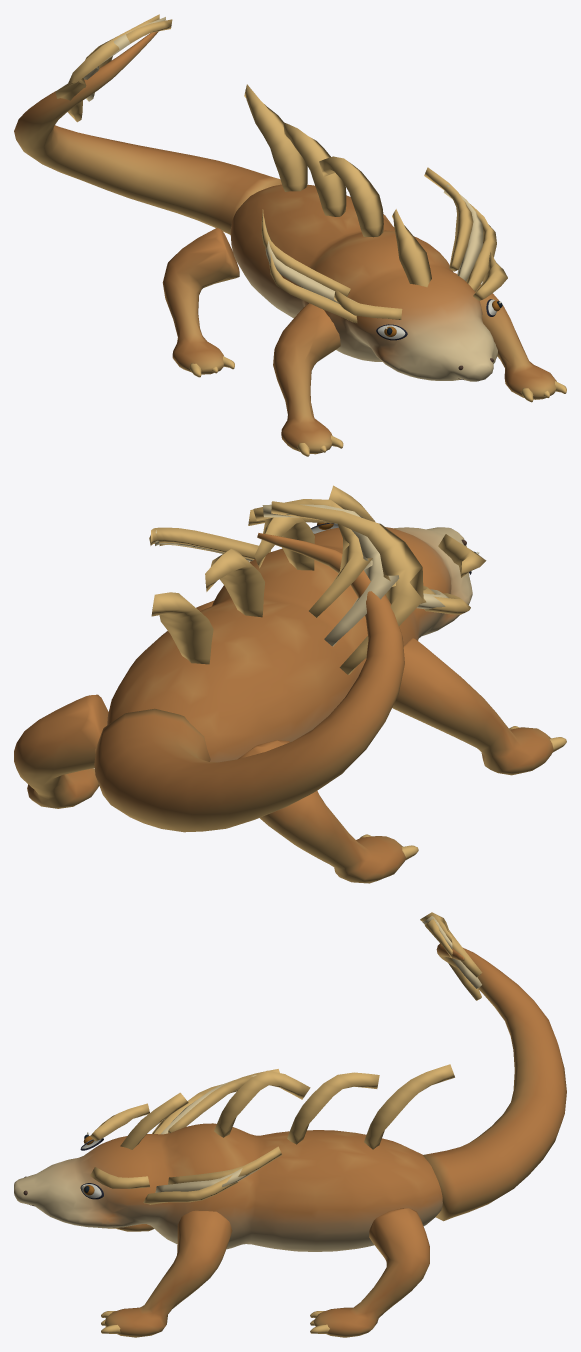
The model's file is salamandre.glb.
3 views of the same model, one above another, from view 1: azimuth 30°, elevation 25°; view 2: azimuth 150°, elevation 25°; view 3: azimuth 270°, elevation 25° (orthographic). The views are drawn at different scales.
Visible parts, largest first — view 1: Peint_salamandre, Peint_Art_queue_D_4, Peint_Art_patte_D_1, Peint_Art_patte_G_0, Peint_Art_patte_D_2; view 2: Peint_salamandre, Peint_Art_queue_D_4, Peint_Art_patte_G_0, Peint_Art_patte_G_3, Peint_Art_patte_D_1; view 3: Peint_salamandre, Peint_Art_queue_D_4, Peint_Art_patte_G_3, Peint_Art_patte_D_2.
Boxes of the visible parts, left/top/right/bottom form: Peint_salamandre: left=230, top=84, right=507, bottom=381; Peint_Art_queue_D_4: left=14, top=14, right=281, bottom=234; Peint_Art_patte_D_1: left=162, top=227, right=239, bottom=377; Peint_Art_patte_G_0: left=273, top=303, right=343, bottom=456; Peint_Art_patte_D_2: left=454, top=273, right=566, bottom=402; Peint_salamandre: left=107, top=485, right=486, bottom=762; Peint_Art_queue_D_4: left=94, top=499, right=423, bottom=832; Peint_Art_patte_G_0: left=392, top=638, right=566, bottom=775; Peint_Art_patte_G_3: left=14, top=694, right=108, bottom=808; Peint_Art_patte_D_1: left=238, top=740, right=418, bottom=883; Peint_salamandre: left=14, top=1064, right=454, bottom=1251; Peint_Art_queue_D_4: left=420, top=912, right=566, bottom=1221; Peint_Art_patte_G_3: left=310, top=1208, right=429, bottom=1337; Peint_Art_patte_D_2: left=101, top=1210, right=232, bottom=1337.
Bounding box in the file's own units: 0.76 × 0.6631 × 1.11.
